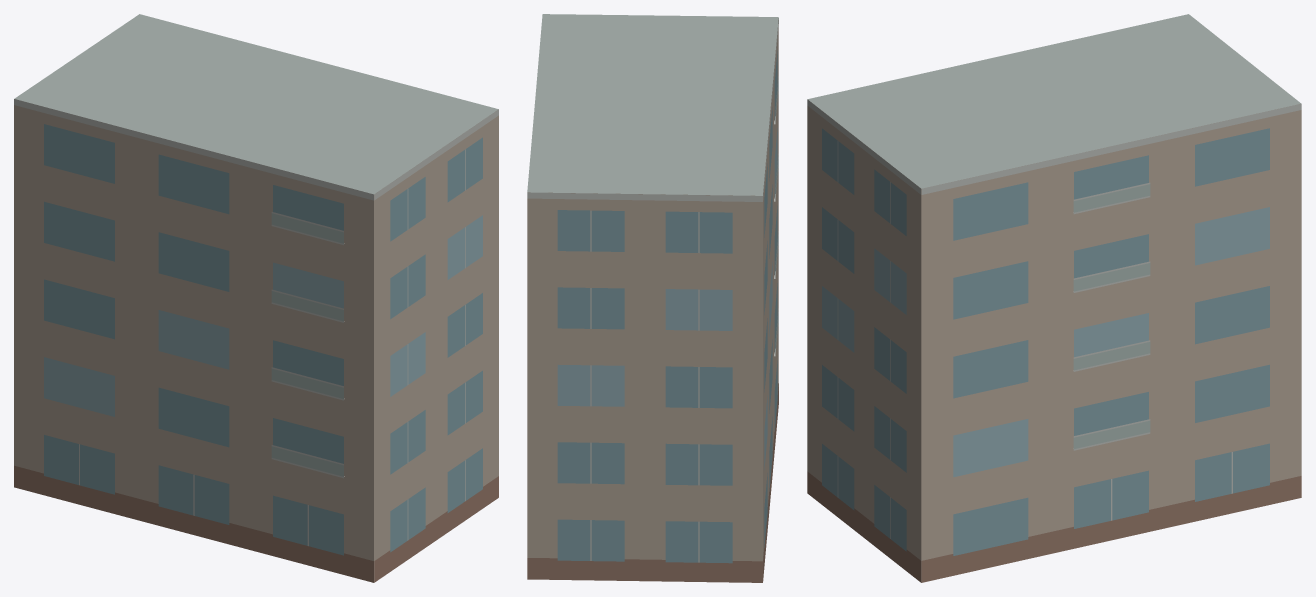
The model's file is survey-upis-32892517.glb.
3 views of the same model, side by side, from view 1: azimuth 30°, elevation 25°; view 2: azimuth 150°, elevation 25°; view 3: azimuth 270°, elevation 25° (orthographic).
Visible parts, largest first — view 1: survey-upis-32892517.tmp; view 2: survey-upis-32892517.tmp; view 3: survey-upis-32892517.tmp.
Boxes of the visible parts, x1,y1,x2,y2 form: survey-upis-32892517.tmp: (14, 14, 498, 582); survey-upis-32892517.tmp: (527, 14, 778, 582); survey-upis-32892517.tmp: (807, 14, 1301, 582).
Bounding box in the file's own units: 14.51 × 15.25 × 17.34.
